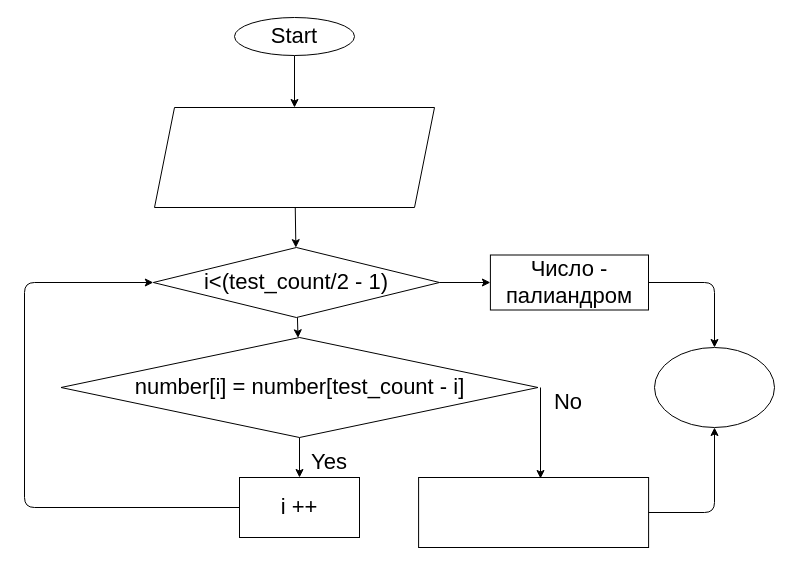
This 792x565 diagram has some shape labels left out. Each missing label, with the centre of its shape:
End: the point at 714,387
number = count = 5 test_count = count/2 - 1 i = 0: the point at 294,157
Число не является палиандромом: the point at 533,512
